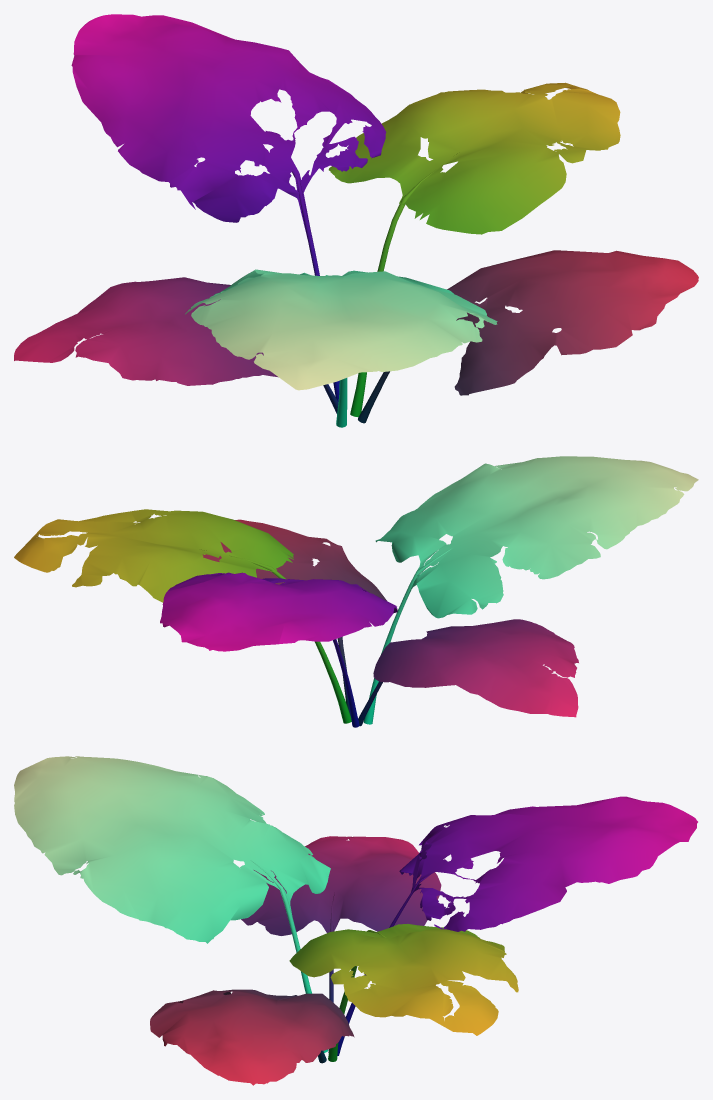
Rendered from Greater Burdock_LOD0_Var4_xh5pdgiqx.fbx.
3 views of the same model, one above another, from view 1: azimuth 30°, elevation 25°; view 2: azimuth 150°, elevation 25°; view 3: azimuth 270°, elevation 25° (orthographic). The views are drawn at different scales.
Visible parts, largest first — view 1: _5rxo_Var4_LOD0; view 2: _5rxo_Var4_LOD0; view 3: _5rxo_Var4_LOD0.
Part boxes in pixels (<box>): _5rxo_Var4_LOD0: <box>14,14,698,427</box>; _5rxo_Var4_LOD0: <box>14,456,698,727</box>; _5rxo_Var4_LOD0: <box>14,756,697,1085</box>.
Size of the model in its own units: 39 by 15.85 by 42.94.
